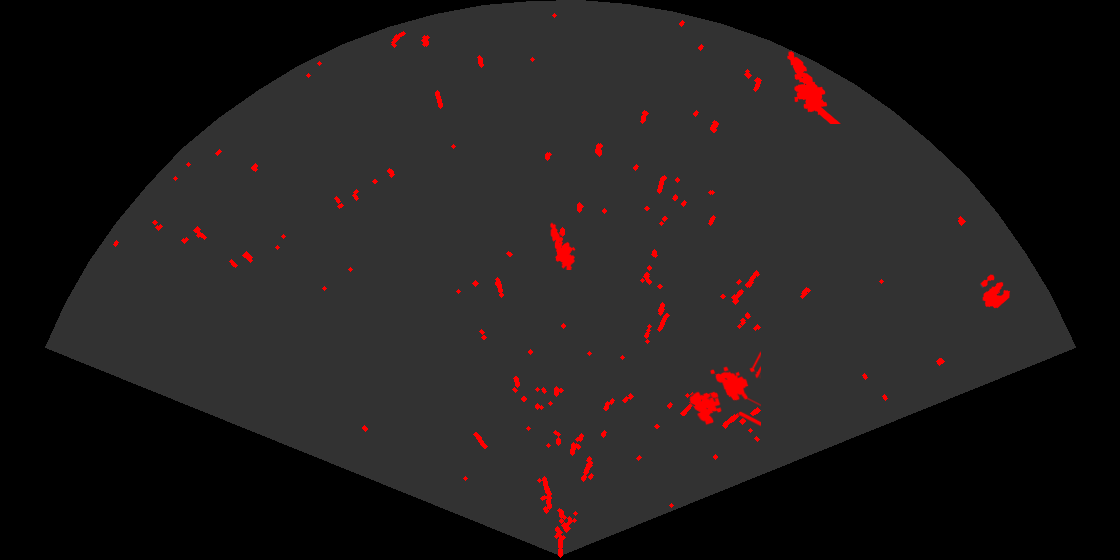ball: (979, 273, 1012, 310)
cage: (688, 350, 761, 428)
frogman: (786, 50, 842, 124), (549, 222, 577, 270)
